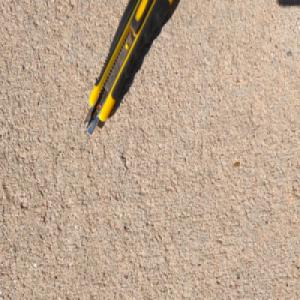Cutter: (81, 0, 178, 137)
